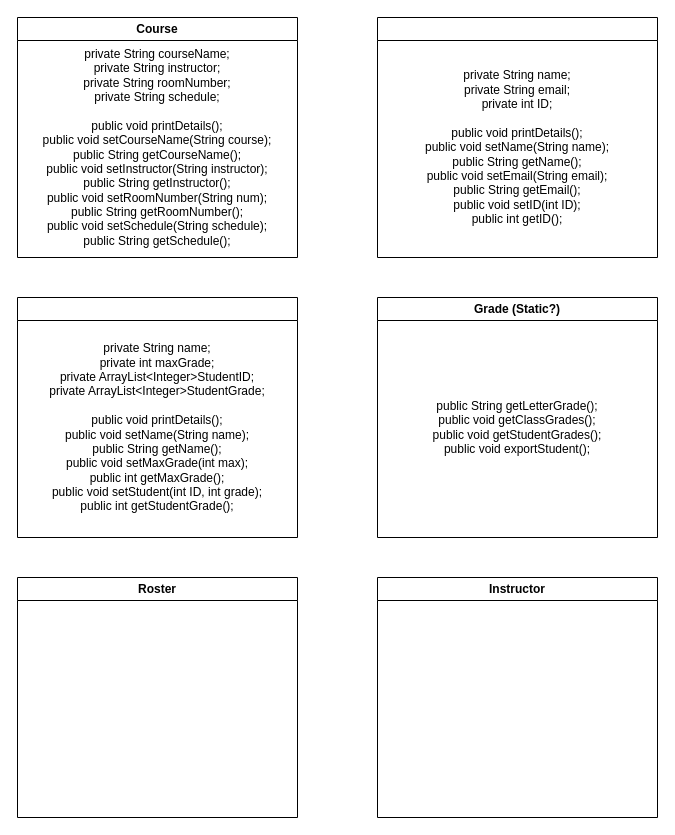
The diagram is 675 pixels wide and 835 high, and some of its shapes have lost their labels. Each missing label, with the box of its shape:
Assignment: (16, 296, 298, 538)
Student: (376, 16, 658, 258)
